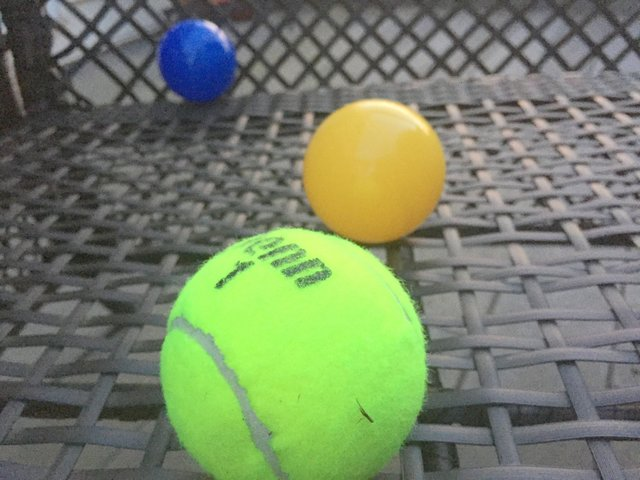Ball: (160, 19, 234, 103)
